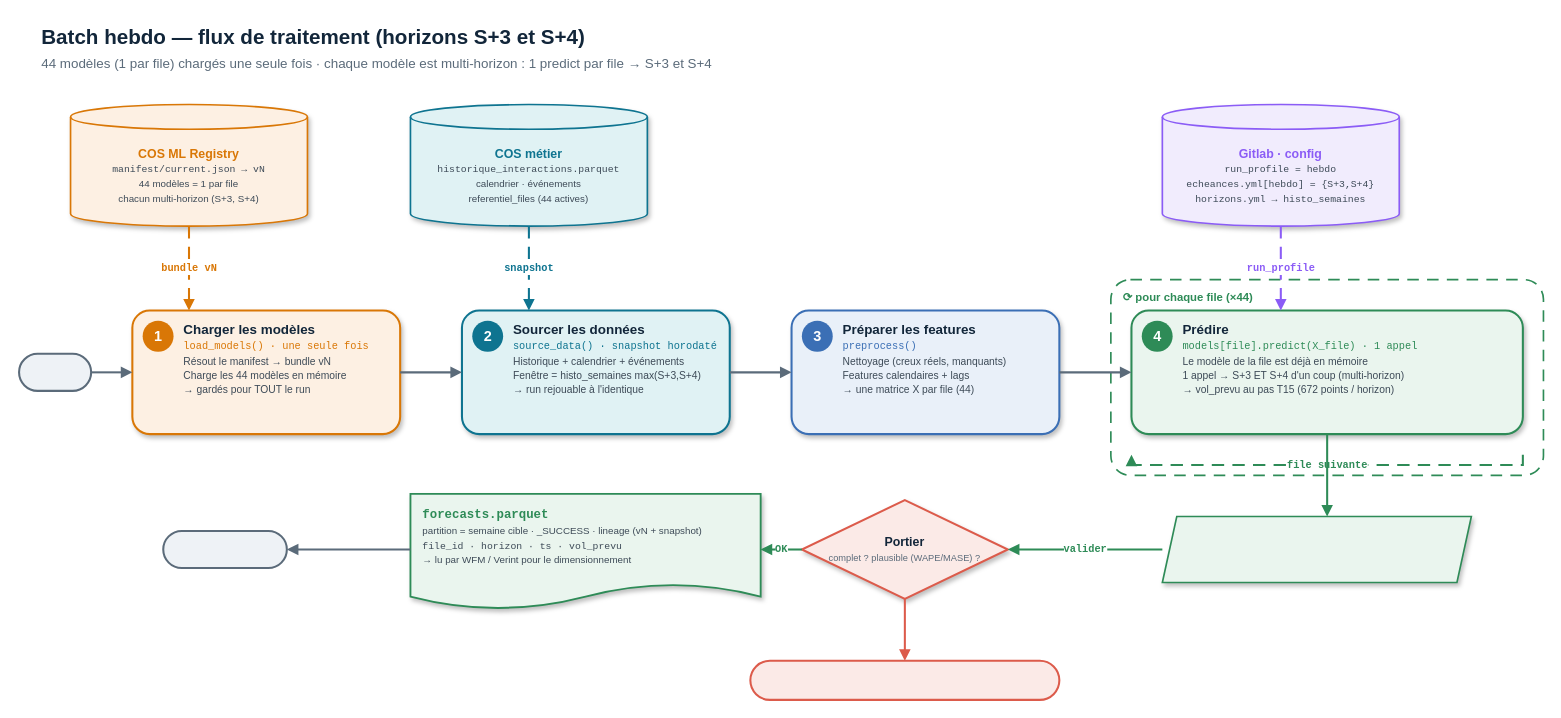
The diagram is 1561 pixels wide and 718 high, and some of its shapes have lost their labels. The centre of each missing label's shape, as x and y in pixels:
"End" belongs at (224,549).
"forecasts (44 files × 2 horizons) 88 unités · vol_prevu au T15" belongs at (1317,550).
"KO → rien publié · garde vN-1 · alerte" belongs at (904,679).
"Start" belongs at (55,371).
